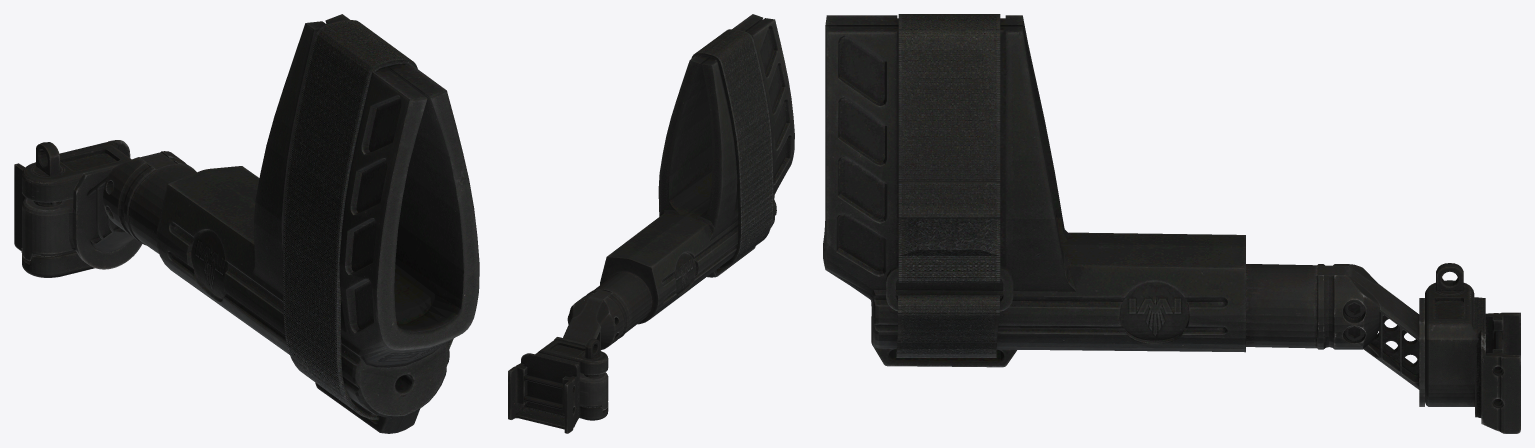
3 renders of one model, left to right at view 1: azimuth 30°, elevation 25°; view 2: azimuth 150°, elevation 25°; view 3: azimuth 270°, elevation 25°, orthographic. The views are drawn at different scales.
Parts seen in each view (by area): view 1: TW_668032ba74b8f2050c0b917d_PZ_Import; view 2: TW_668032ba74b8f2050c0b917d_PZ_Import; view 3: TW_668032ba74b8f2050c0b917d_PZ_Import.
Boxes of the visible parts, x1,y1,x2,y2 form: TW_668032ba74b8f2050c0b917d_PZ_Import: (14, 14, 479, 433); TW_668032ba74b8f2050c0b917d_PZ_Import: (508, 14, 794, 433); TW_668032ba74b8f2050c0b917d_PZ_Import: (823, 14, 1520, 433).
Size of the model in its own units: 0.0317 by 0.1478 by 0.0913.
1 material, 1 textured.
